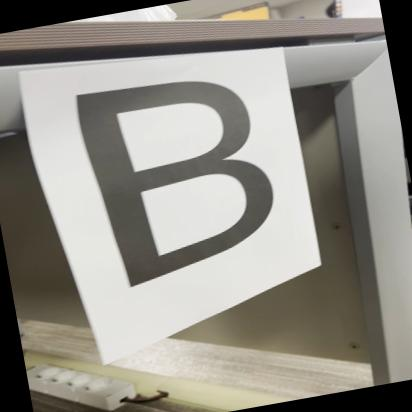seat: (25, 45, 308, 310)
